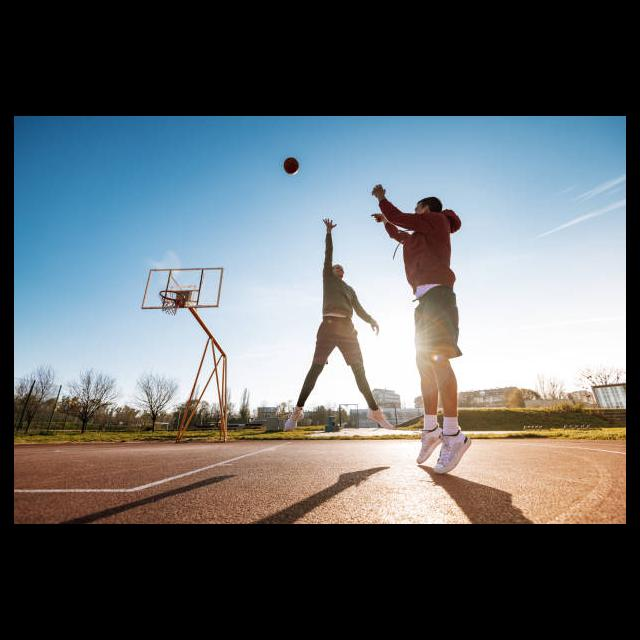basketball: (282, 156, 299, 175)
hoop: (159, 291, 183, 315)
